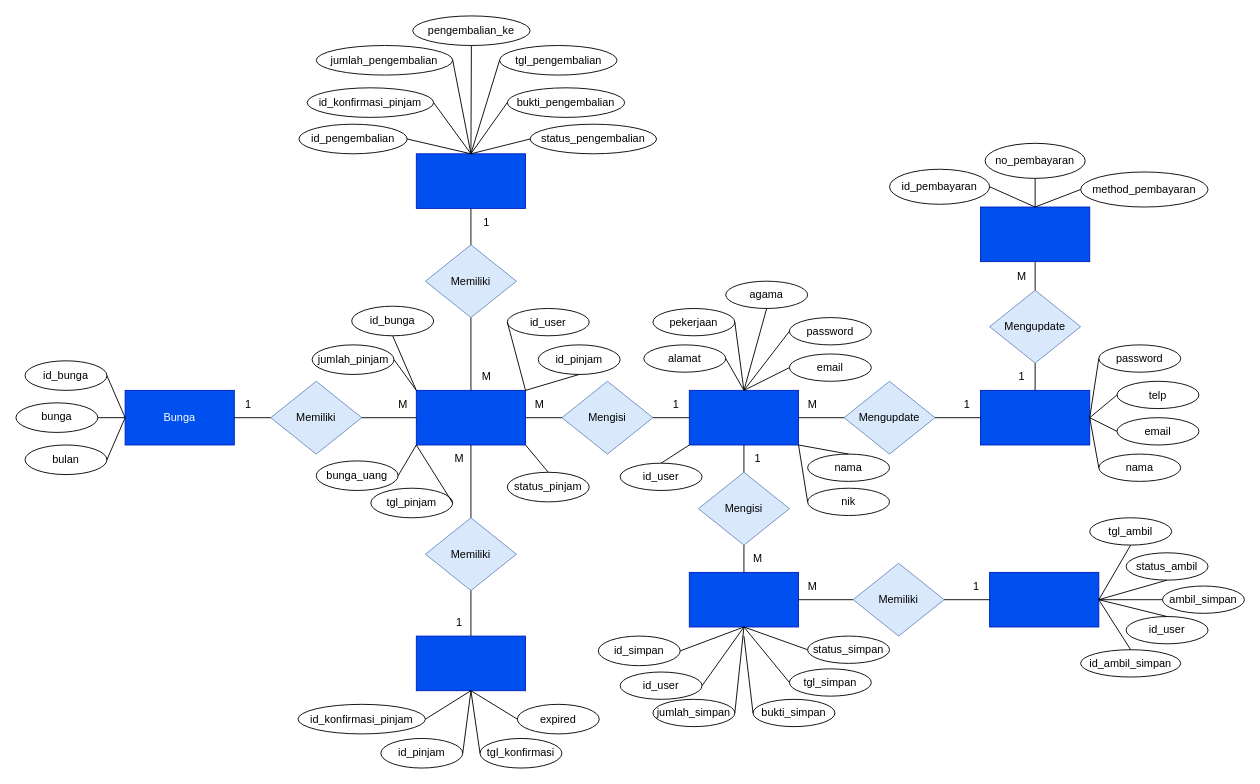
Some shapes in this 1260 by 784 pixel diagram are drawn without their labels. The centre of each missing label's shape, as x and y in pixels:
Admin: the point at 1035,417
Ambil Tabungan: the point at 1044,599
Form Simpanan: the point at 743,599
Konfirmasi Pinjaman: the point at 470,663
Payment: the point at 1035,234
Pengembalian: the point at 470,180
Pinjaman: the point at 470,417
User: the point at 743,417
